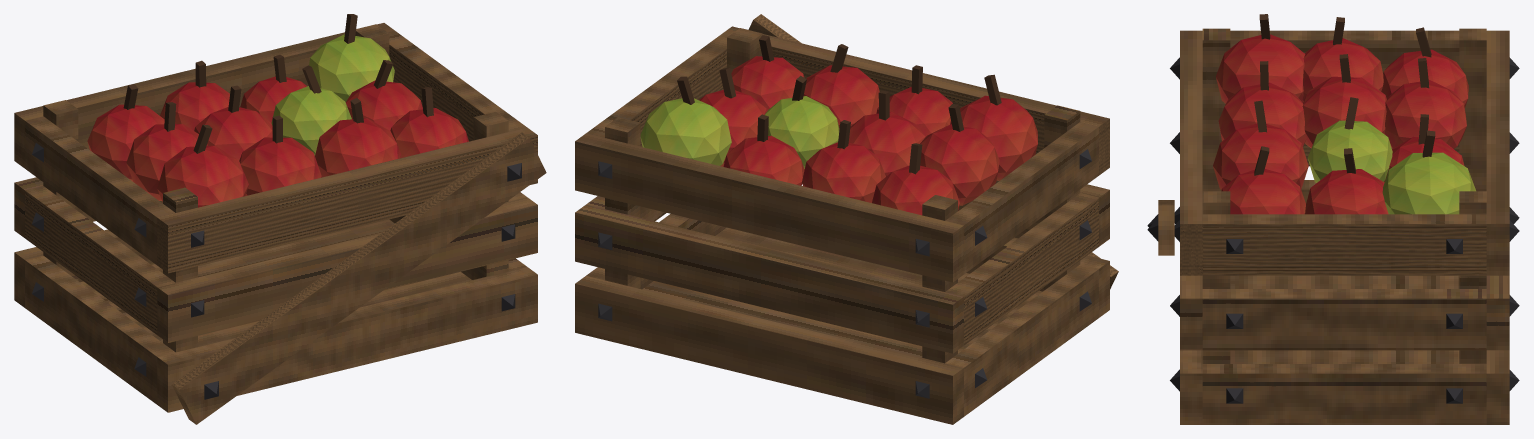
The model's file is prop_appelkist.glb.
3 views of the same model, side by side, from view 1: azimuth 30°, elevation 25°; view 2: azimuth 150°, elevation 25°; view 3: azimuth 270°, elevation 25° (orthographic). The views are drawn at different scales.
Parts seen in each view (by area): view 1: prop_appelkist; view 2: prop_appelkist; view 3: prop_appelkist.
Boxes of the visible parts, <box> form: prop_appelkist: <box>14,14,546,424</box>; prop_appelkist: <box>575,14,1118,424</box>; prop_appelkist: <box>1147,14,1519,424</box>.
Bounding box in the file's own units: 0.522 × 0.3218 × 0.4065.
Materials: 1 (1 with a texture image).
